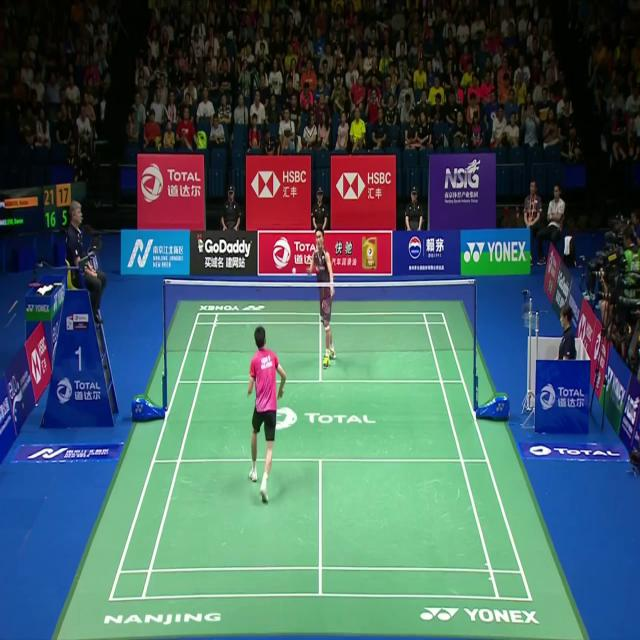Shuttlecock: (290, 265, 297, 277)
